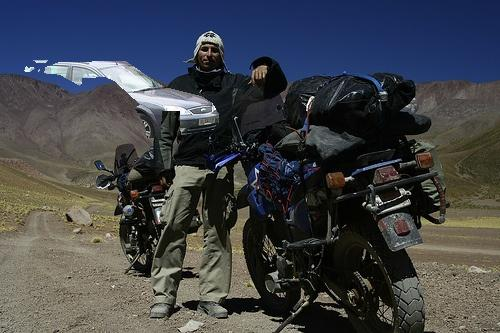tampered: (25, 61, 219, 138)
